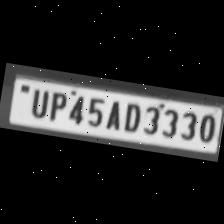0: (194, 109, 218, 143)
3: (174, 106, 200, 140), (140, 100, 164, 136), (158, 102, 182, 138)
4: (64, 90, 88, 124)
5: (82, 92, 106, 128)
A: (102, 96, 124, 130)
D: (120, 97, 144, 132)
P: (44, 86, 68, 122)
U: (26, 86, 51, 119)
